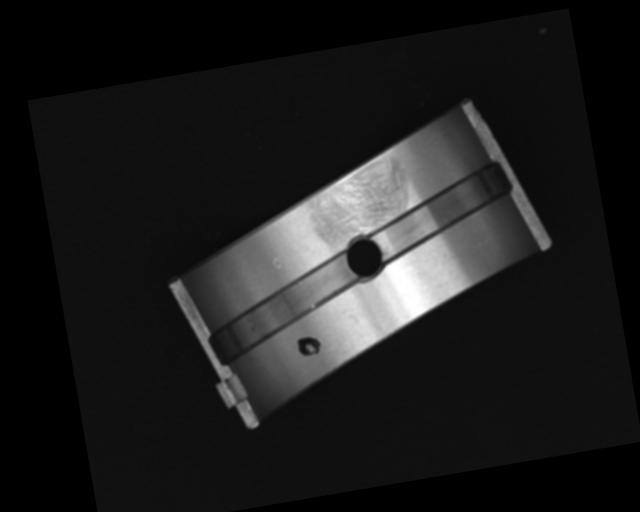blot: (295, 333, 324, 360)
bruise: (271, 255, 282, 271)
gap: (202, 250, 367, 361), (363, 161, 518, 260)
hole: (341, 232, 388, 284)
scratch: (304, 152, 417, 247)
